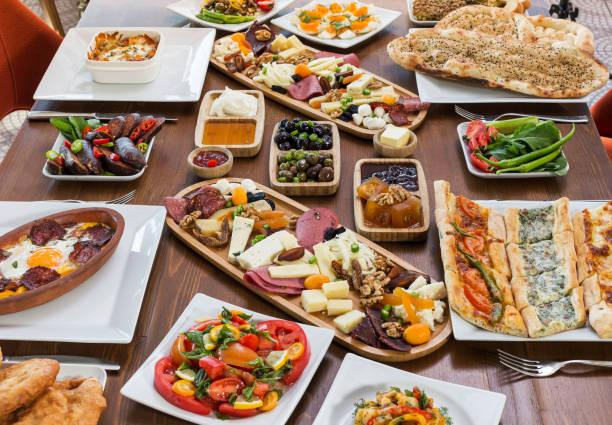Braised Crucian Carp: (159, 171, 454, 359), (118, 296, 330, 423), (444, 198, 611, 349), (210, 29, 418, 141), (2, 200, 167, 340), (30, 25, 211, 103), (413, 30, 596, 106), (456, 119, 575, 178), (269, 0, 399, 49), (42, 127, 155, 181), (186, 145, 234, 178)
